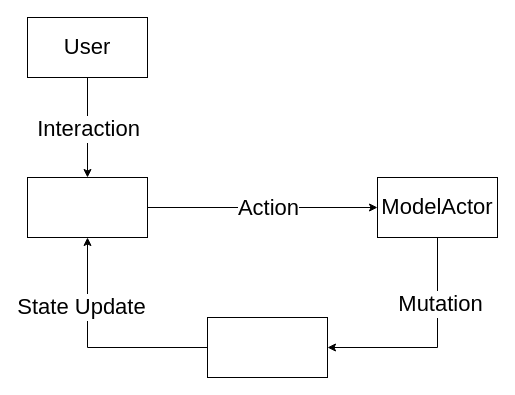
This 515x395 diagram has some shape labels left out. Each missing label, with the centre of its shape:
"Model" belongs at (267,347).
"View" belongs at (87,207).
